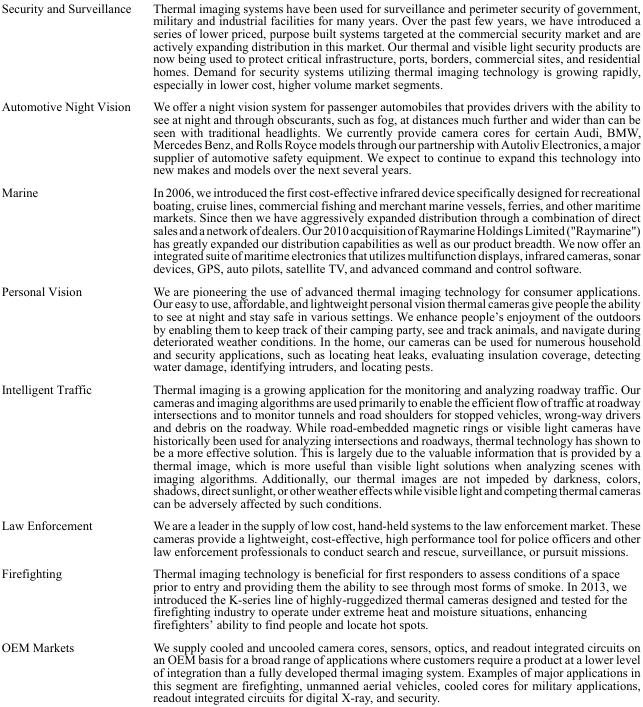table: (0, 0, 640, 703)
table column: (141, 0, 640, 703), (0, 0, 141, 703)
table row: (0, 377, 640, 513), (0, 180, 640, 279), (0, 279, 640, 377), (0, 0, 640, 94), (0, 94, 640, 180), (0, 561, 640, 635), (0, 635, 640, 703), (0, 513, 640, 561)
